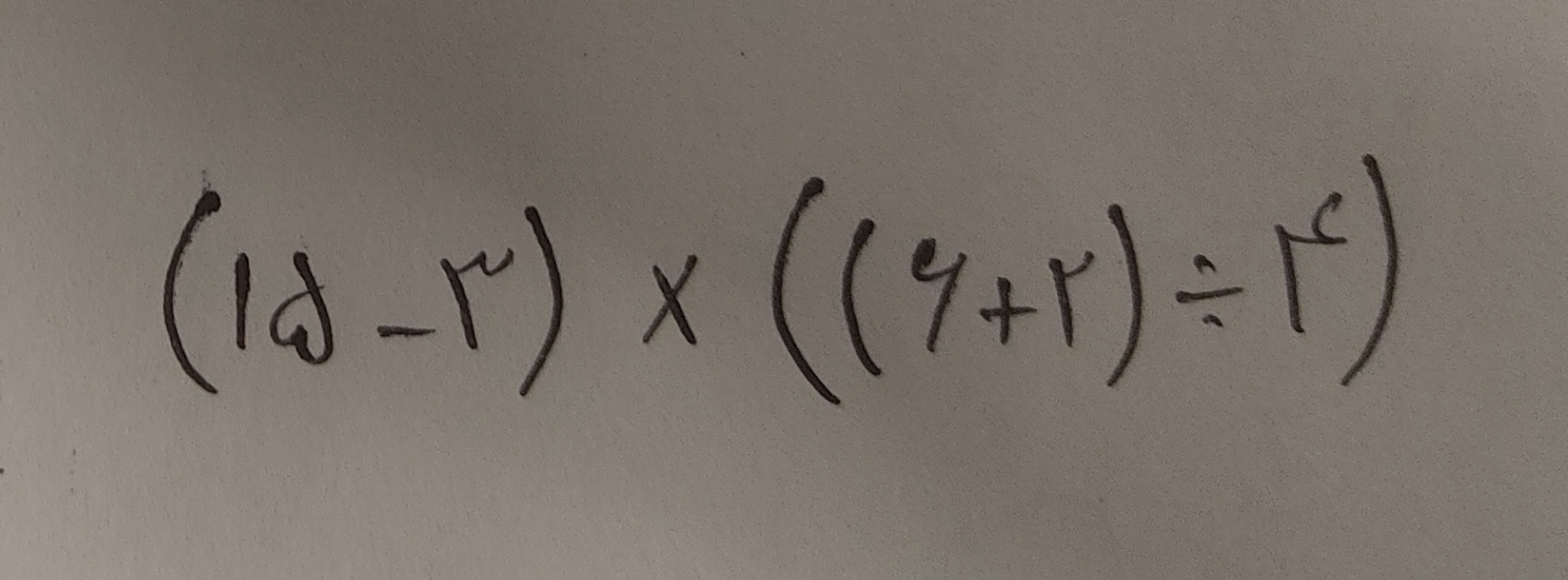character: (767, 171, 853, 413), (159, 189, 243, 423), (1337, 147, 1409, 403), (513, 202, 580, 418), (1273, 191, 1365, 345), (843, 216, 905, 393), (1096, 201, 1149, 400), (437, 246, 529, 360), (268, 248, 350, 375), (908, 236, 982, 368), (1176, 251, 1263, 338), (642, 253, 710, 358), (1047, 248, 1106, 355), (980, 276, 1050, 356), (228, 246, 268, 370), (367, 321, 444, 353)
